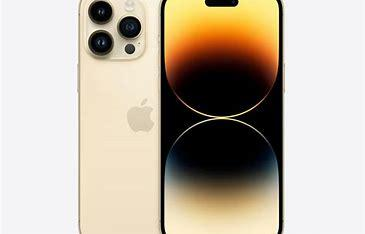-iphone13: (56, 0, 295, 232)
